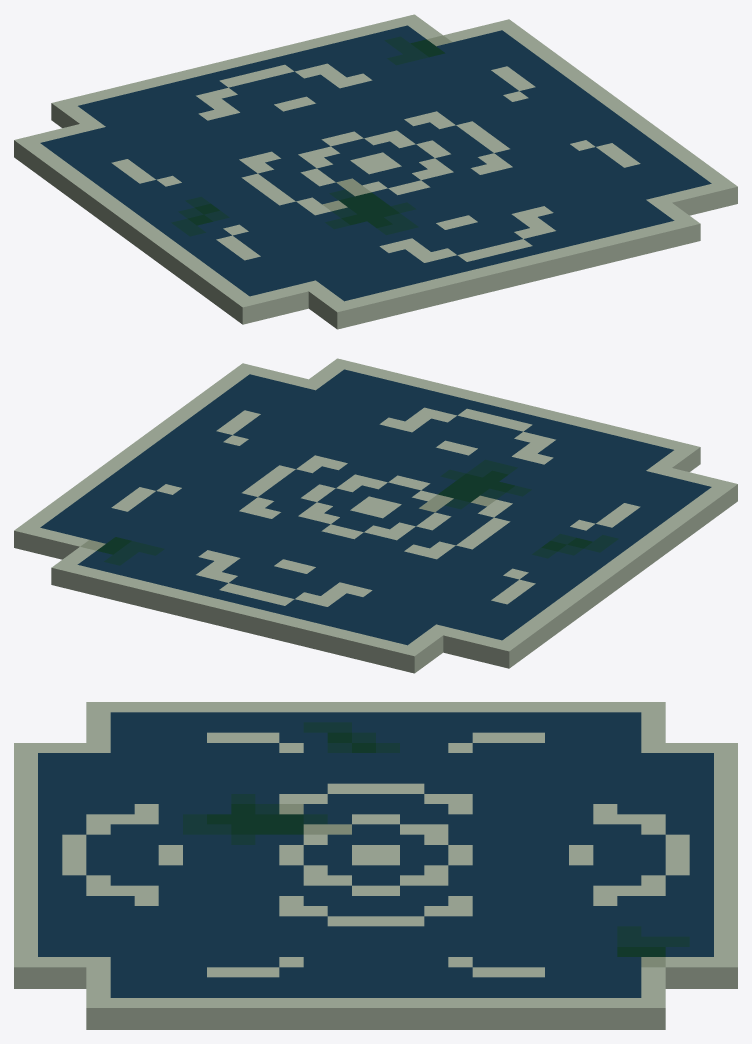
File: BlueRug_01.obj
3 views of the same model, one above another, from view 1: azimuth 30°, elevation 25°; view 2: azimuth 150°, elevation 25°; view 3: azimuth 270°, elevation 25° (orthographic). The views are drawn at different scales.
Visible parts, largest first — view 1: BlueRug_01.001; view 2: BlueRug_01.001; view 3: BlueRug_01.001.
Boxes of the visible parts, x1=… form: BlueRug_01.001: x1=14, y1=14, x2=737, y2=329; BlueRug_01.001: x1=14, y1=358, x2=737, y2=673; BlueRug_01.001: x1=14, y1=702, x2=737, y2=1029.
Size of the model in its own units: 3 by 0.1 by 3.
